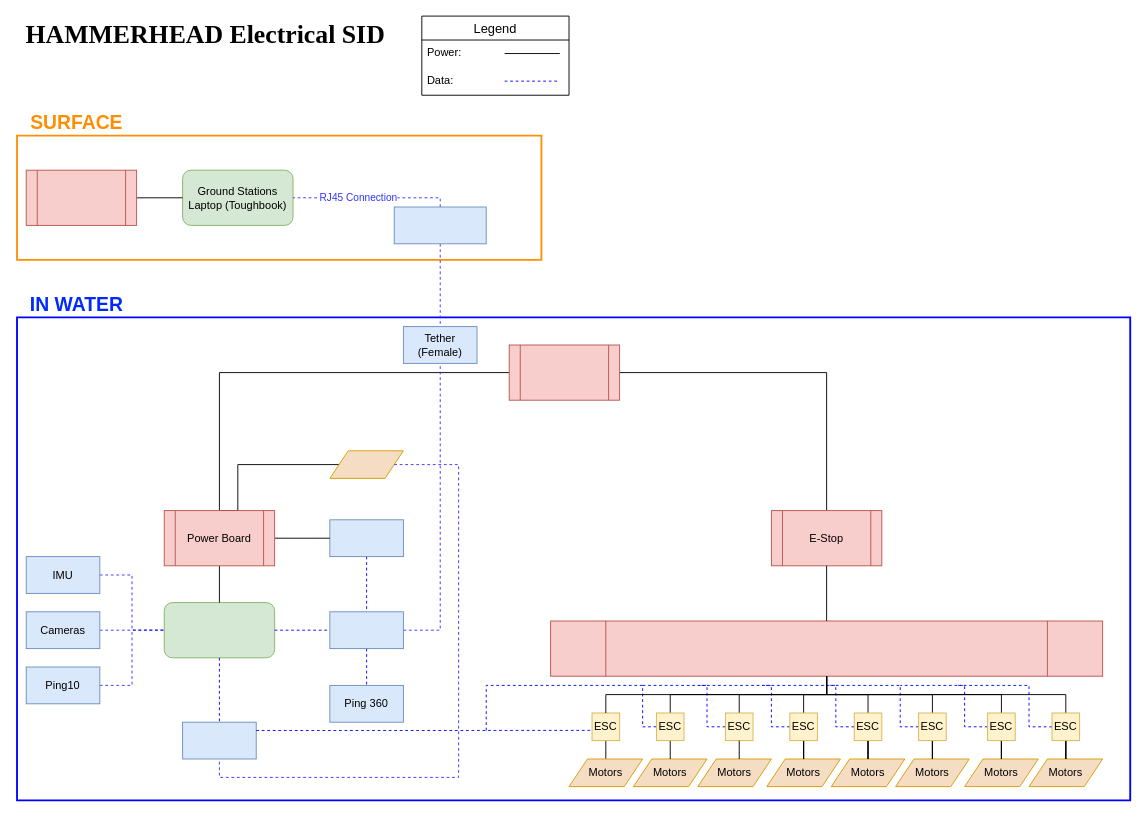
Some shapes in this 1146 by 817 pixel diagram are drawn without their labels. Each missing label, with the centre of its shape:
"Batteries" belongs at pixel 564 372.
"Buss Bar" belongs at pixel 826 648.
"DVL" belongs at pixel 366 538.
"External Power" belongs at pixel 81 197.
"LattePanda" belongs at pixel 219 630.
"Pulolu Maestro" belongs at pixel 219 740.
"Router" belongs at pixel 366 630.
"Servo (dropper)" belongs at pixel 366 464.
"Tether Connector and Spool" belongs at pixel 439 225.
